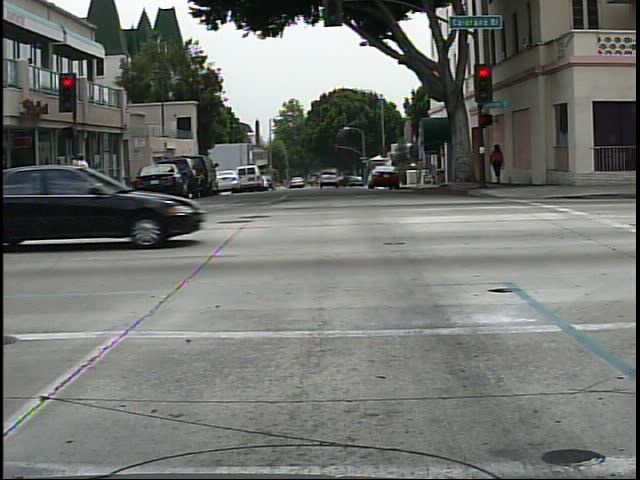person: (488, 137, 514, 192), (78, 154, 95, 181)
